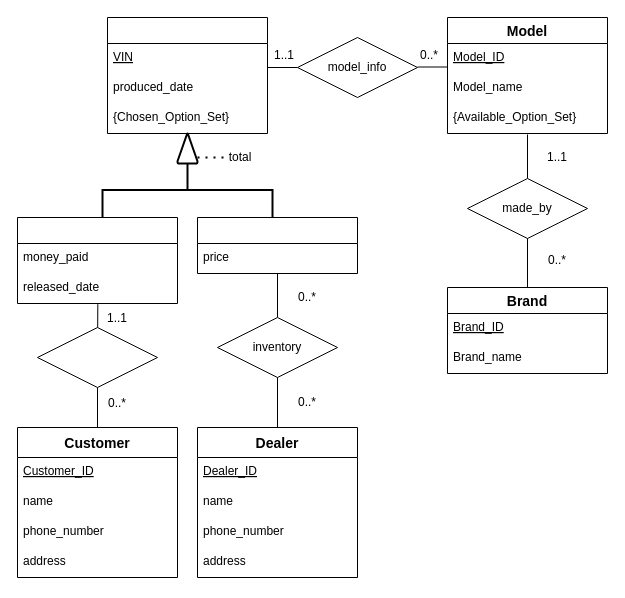
Some shapes in this 625 by 598 pixel diagram are drawn without their labels. Here are the shapes that lost their labels. From the top down, the box of each, then its label:
(106, 16, 268, 134): Car
(16, 216, 178, 304): Dealt Car
(196, 216, 358, 274): Cars In Stock
(36, 326, 158, 388): owns
